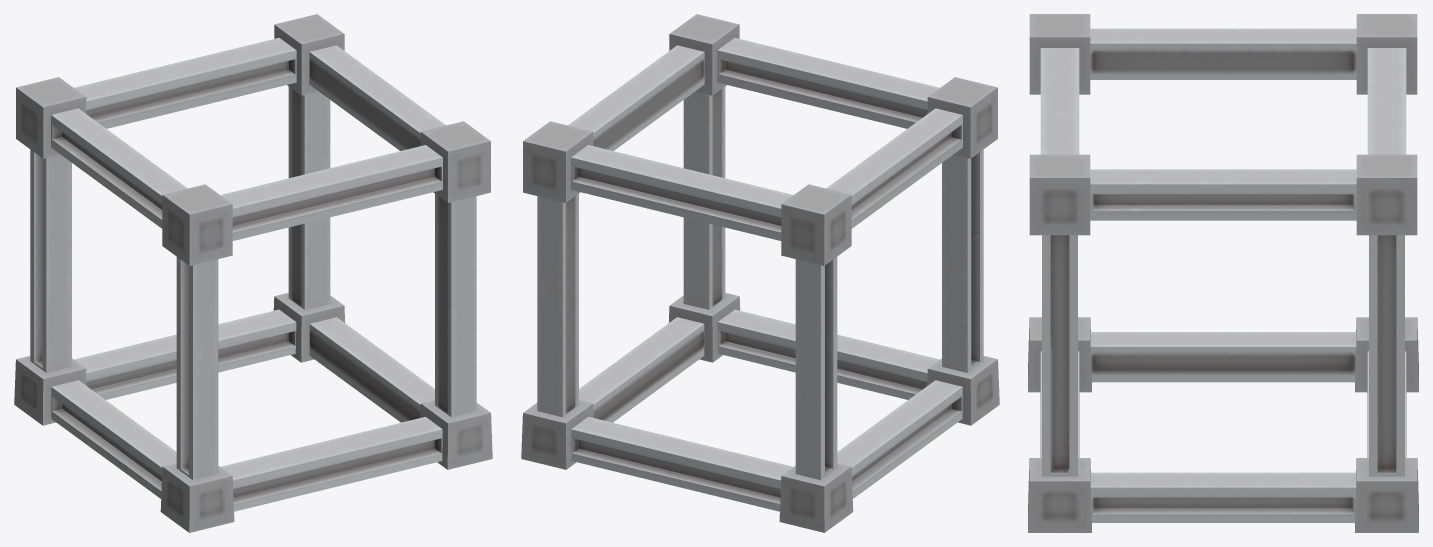
The model's file is Pfb_ContainerFrame.fbx.
The picture shows the model from 3 angles, left to right: view 1: azimuth 30°, elevation 25°; view 2: azimuth 150°, elevation 25°; view 3: azimuth 270°, elevation 25°; orthographic projection. The views are drawn at different scales.
Parts seen in each view (by area): view 1: Mat_SteelFrame_01; view 2: Mat_SteelFrame_01; view 3: Mat_SteelFrame_01.
Part boxes in pixels (<box>): Mat_SteelFrame_01: <box>14,14,492,532</box>; Mat_SteelFrame_01: <box>521,14,999,532</box>; Mat_SteelFrame_01: <box>1028,14,1418,532</box>.
Size of the model in its own units: 1 by 1 by 1.
Materials: 1 (1 with a texture image).
